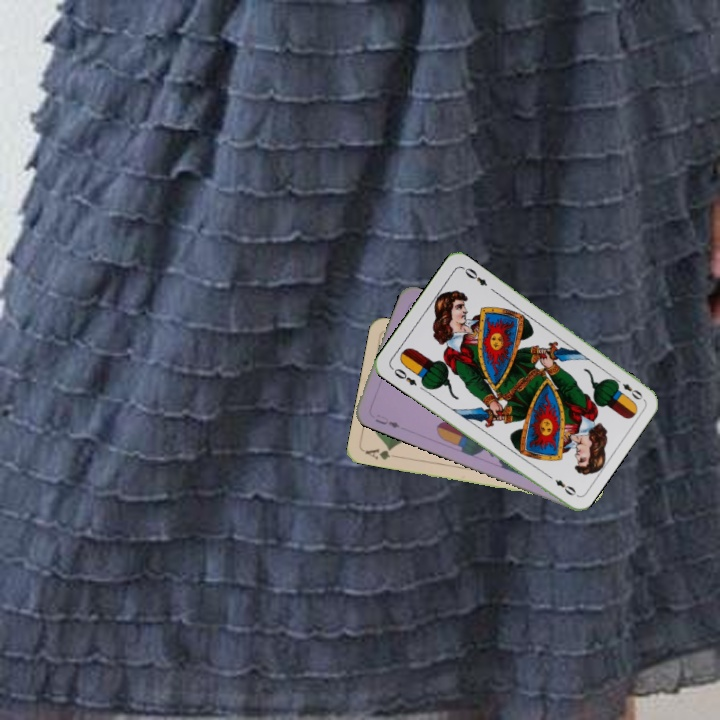EO: (610, 374, 645, 403), (387, 363, 419, 388)
EU: (371, 410, 402, 431)
GA: (361, 444, 401, 462)
